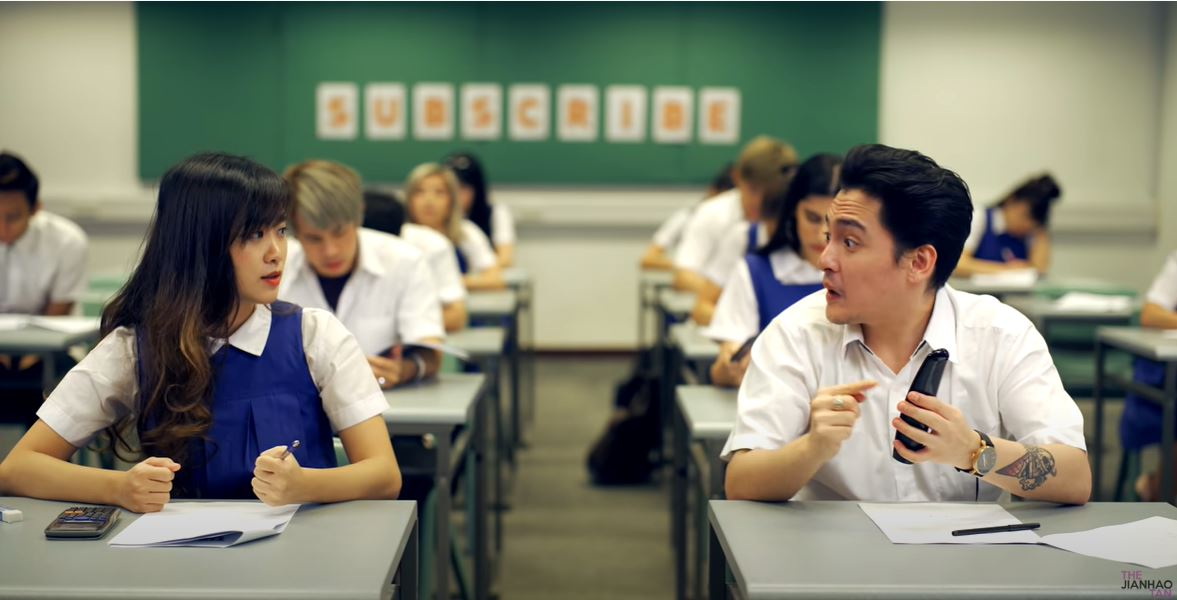student: (757, 193, 1145, 560), (42, 195, 327, 537), (283, 167, 466, 381), (757, 187, 882, 306), (404, 166, 512, 262), (988, 201, 1080, 289)
